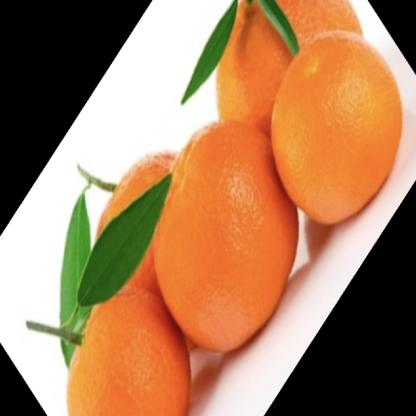fresh: (53, 1, 403, 416)
